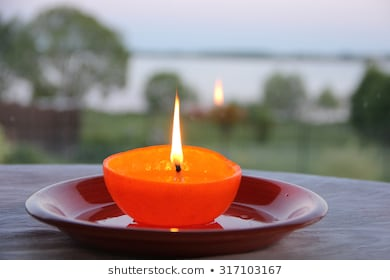Fire: (166, 94, 186, 166), (210, 80, 228, 106)
